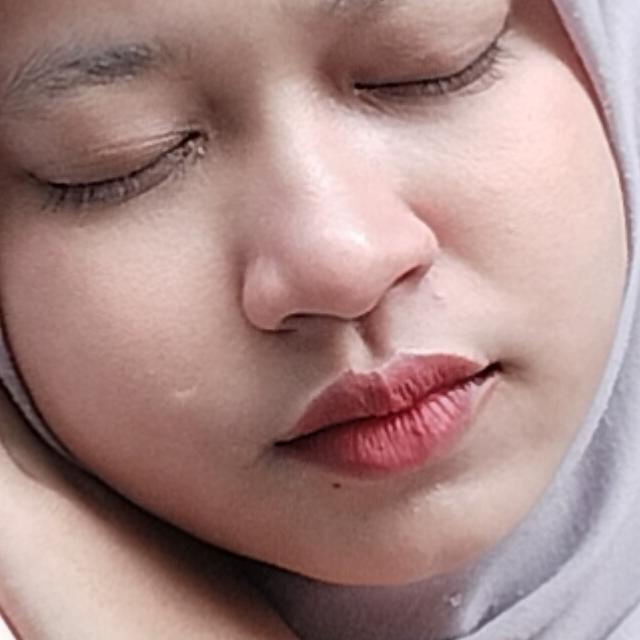tidur: (0, 38, 636, 640)
